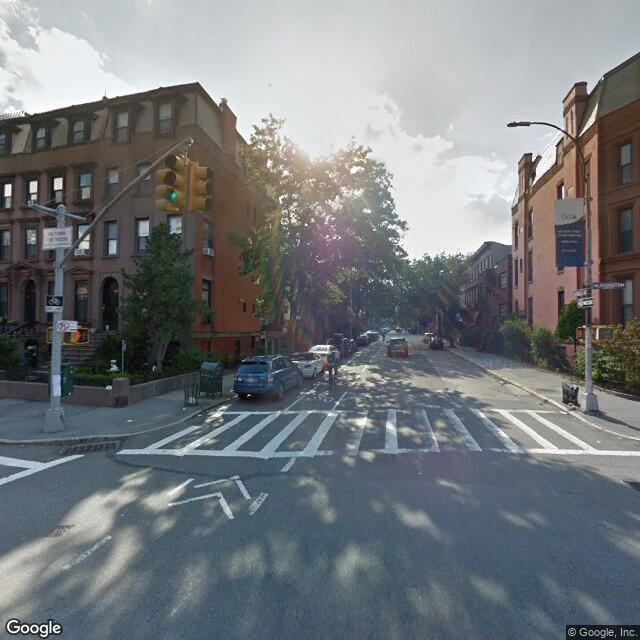litter: (123, 415, 133, 425)
